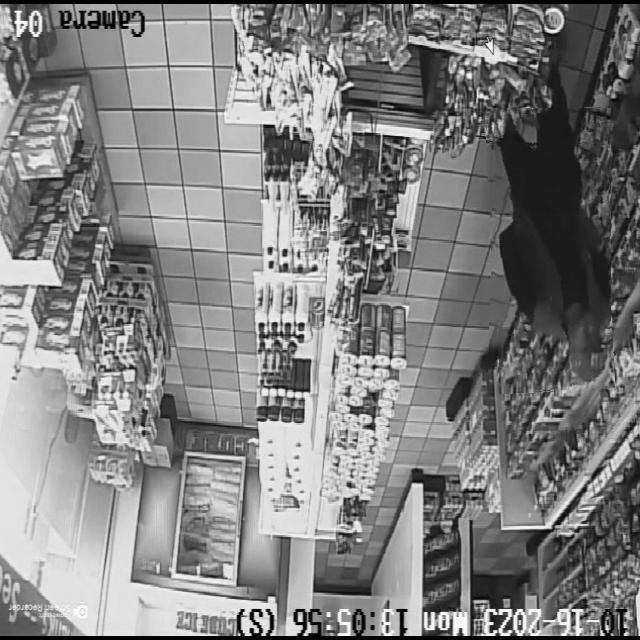Normal: (488, 108, 611, 393)
